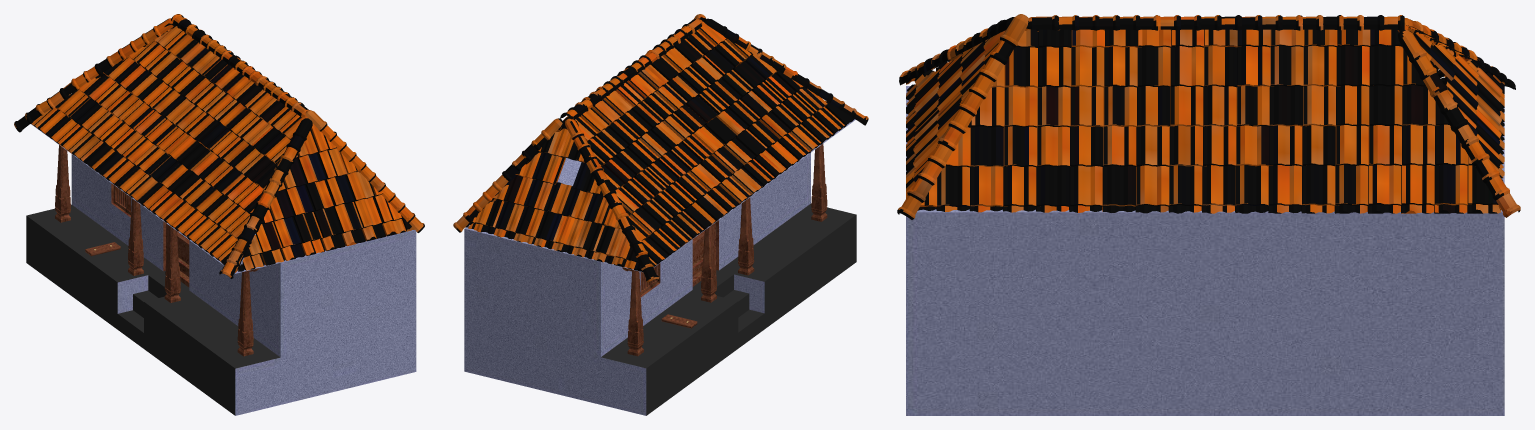
The model's file is pallakulzhi.glb.
The picture shows the model from 3 angles, left to right: view 1: azimuth 30°, elevation 25°; view 2: azimuth 150°, elevation 25°; view 3: azimuth 270°, elevation 25°; orthographic projection. The views are drawn at different scales.
Visible parts, largest first — view 1: roof, walls, piller 4, piller 3, piller 2, piller 1; view 2: roof, walls, piller 1, piller 4, piller 3, piller 2; view 3: walls, roof.
Part boxes in pixels (<box>): roof: <box>14,14,424,278</box>; walls: <box>26,124,416,415</box>; piller 4: <box>237,268,259,356</box>; piller 3: <box>164,225,180,302</box>; piller 2: <box>128,198,143,275</box>; piller 1: <box>55,145,70,222</box>; roof: <box>453,14,868,282</box>; walls: <box>464,119,856,415</box>; piller 1: <box>622,267,643,356</box>; piller 4: <box>811,144,827,221</box>; piller 3: <box>738,197,754,275</box>; piller 2: <box>701,224,716,302</box>; walls: <box>906,86,1504,415</box>; roof: <box>897,14,1520,219</box>.
Size of what is drawn, in the model's own units: 35.82 by 41.86 by 66.64.
Materials: 11 (9 with a texture image).
